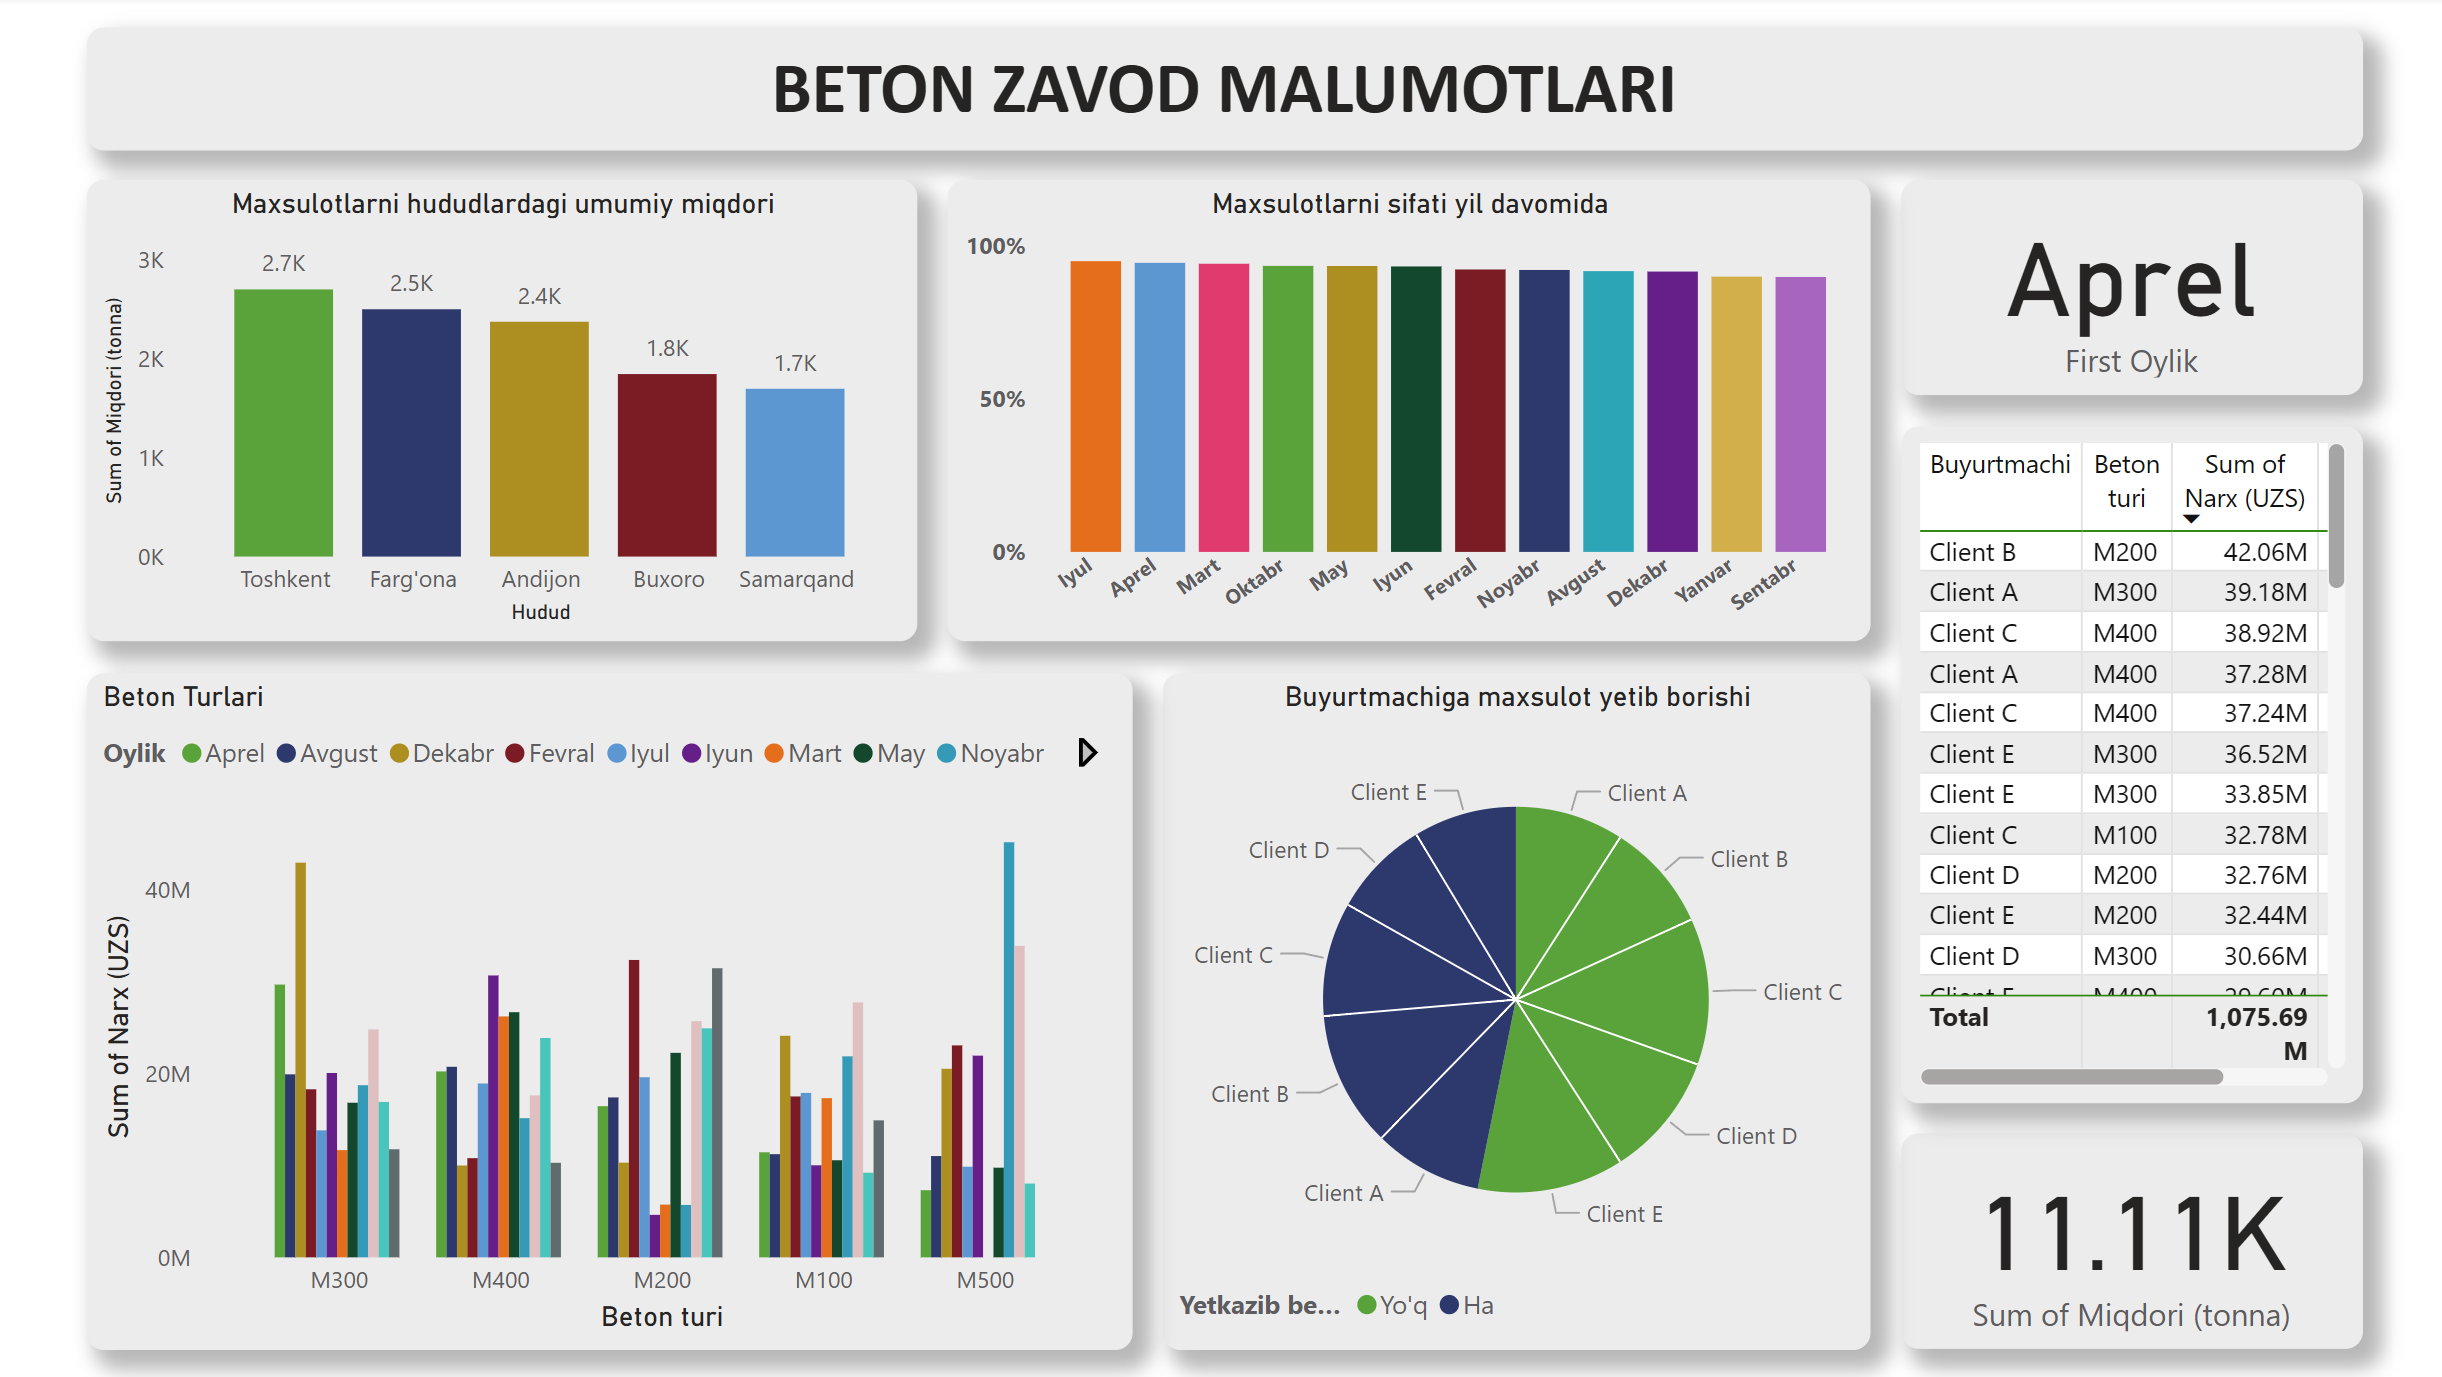

What the dashboard file says about the page in this screenshot:
{"tool":"powerbi","page":{"name":"1","canvas":[1280,720],"ordinal":0},"visuals":[{"type":"textbox","box":[48,16,1184,64],"z":0},{"type":"card","fields":{"Values":["Min(Sheet1.Oylik)"]},"box":[992,96,240,112],"z":1000},{"type":"clusteredColumnChart","title":"Maxsulotlarni hududlardagi umumiy miqdori","fields":{"Category":["Sheet1.Hudud"],"Y":["Sum(Sheet1.Miqdori (tonna))"]},"box":[48,96,432,240],"z":2000},{"type":"clusteredColumnChart","title":"Maxsulotlarni sifati yil davomida","fields":{"Category":["Betonzavodi.Oylik"],"Y":["Avg(Betonzavodi.Mahsulot %)"]},"box":[496,96,480,240],"z":3000},{"type":"card","fields":{"Values":["Sum(Sheet1.Miqdori (tonna))"]},"box":[992,592,240,112],"z":4000},{"type":"pieChart","title":"Buyurtmachiga maxsulot yetib borishi","fields":{"Category":["Sheet1.Yetkazib berilganmi"],"Y":["CountNonNull(Sheet1.Hudud)"],"Series":["Sheet1.Buyurtmachi"]},"box":[608,352,368,352],"z":5000},{"type":"clusteredColumnChart","title":"Beton Turlari","fields":{"Category":["Sheet1.Beton turi"],"Y":["Sum(Sheet1.Narx (UZS))"],"Series":["Sheet1.Oylik"]},"box":[48,352,544,352],"z":6000},{"type":"tableEx","fields":{"Values":["Sheet1.Buyurtmachi","Sheet1.Beton turi","Sum(Sheet1.Narx (UZS))","Sheet1.Yetkazib berilganmi"]},"box":[992,224,240,352],"z":7000}]}

Visuals, with their boxes in screenshot pixels (x1, y1, x2, y2), scaled from the page's 1280x720 canvas onto the 2442x1377 screenshot:
textbox: x1=92, y1=31, x2=2350, y2=153
card - Min(Sheet1.Oylik): x1=1893, y1=184, x2=2350, y2=398
"Maxsulotlarni hududlardagi umumiy miqdori" clusteredColumnChart: x1=92, y1=184, x2=916, y2=643
"Maxsulotlarni sifati yil davomida" clusteredColumnChart: x1=946, y1=184, x2=1862, y2=643
card - Sum(Sheet1.Miqdori (tonna)): x1=1893, y1=1132, x2=2350, y2=1346
"Buyurtmachiga maxsulot yetib borishi" pieChart: x1=1160, y1=673, x2=1862, y2=1346
"Beton Turlari" clusteredColumnChart: x1=92, y1=673, x2=1129, y2=1346
tableEx - Sheet1.Buyurtmachi x Sheet1.Beton turi: x1=1893, y1=428, x2=2350, y2=1102
